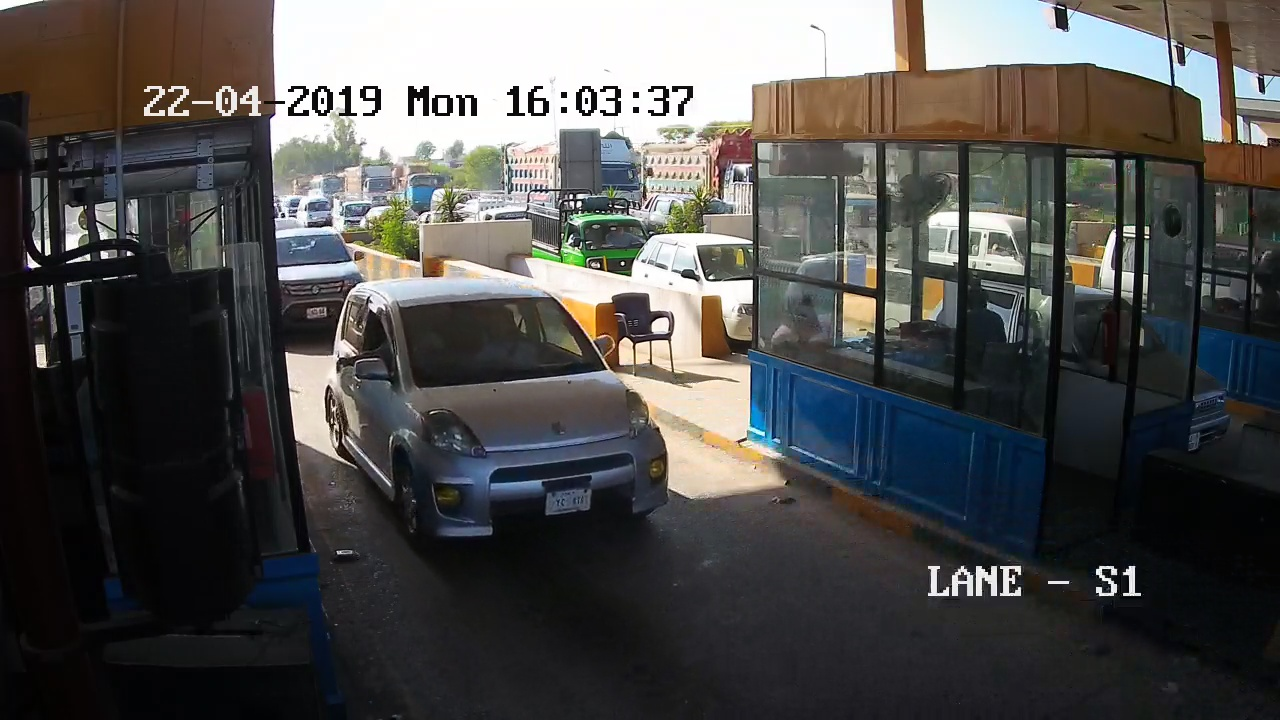Number Plate (Car): (546, 489, 589, 514), (303, 308, 327, 318)
